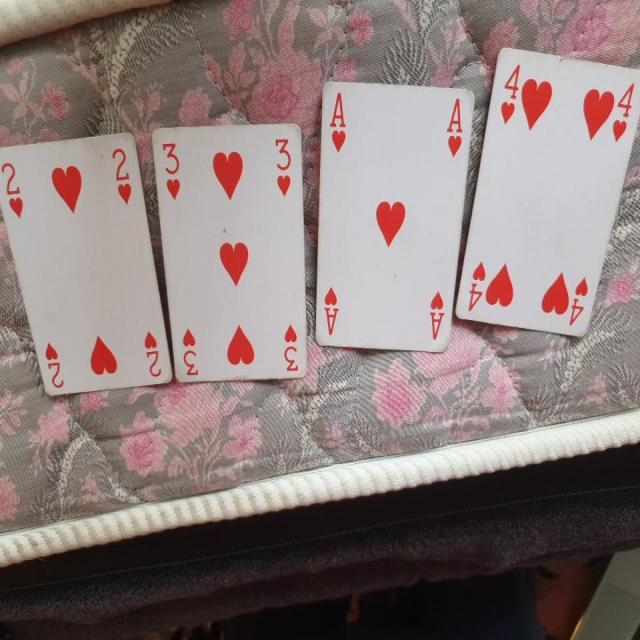2 Hearts: (1, 124, 172, 404)
3 Hearts: (146, 120, 315, 392)
4 Hearts: (445, 50, 640, 344)
A Hearts: (315, 76, 479, 361)
